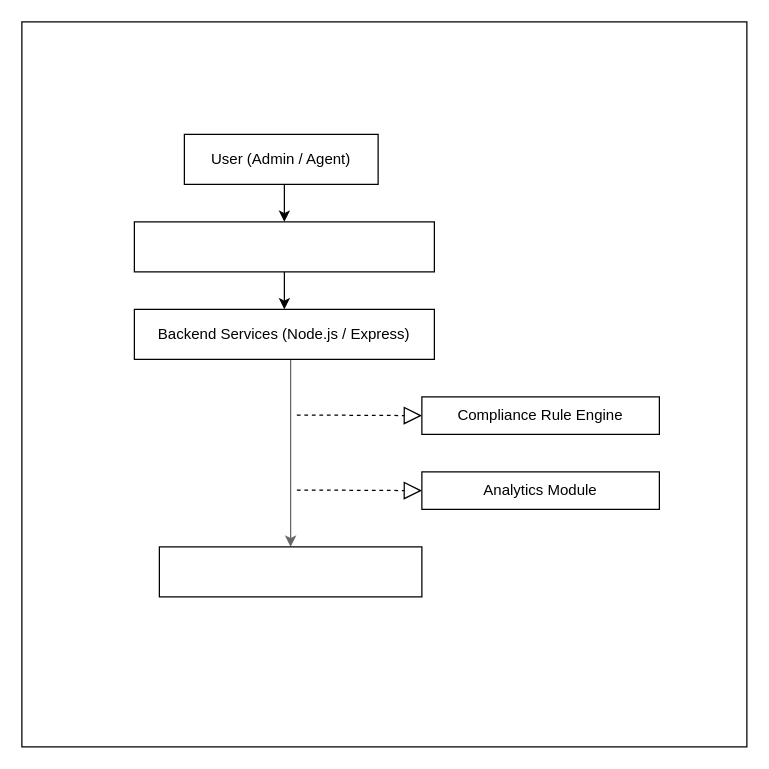
This 769x769 diagram has some shape labels left out. The box of each missing label's shape, as (x1, y1, x2, y2) in pixels:
Data Layer (Mock JSON Data): (158, 546, 422, 597)
Frontend (Web Dashboard UI): (133, 221, 434, 272)
